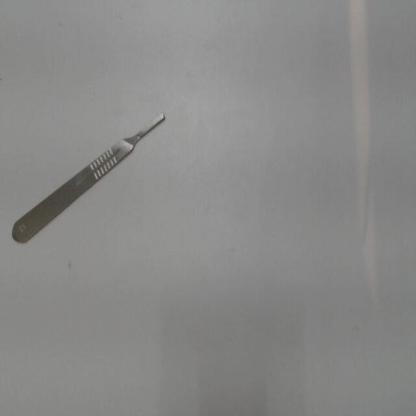No.4 BP Handle: (6, 102, 174, 254)
